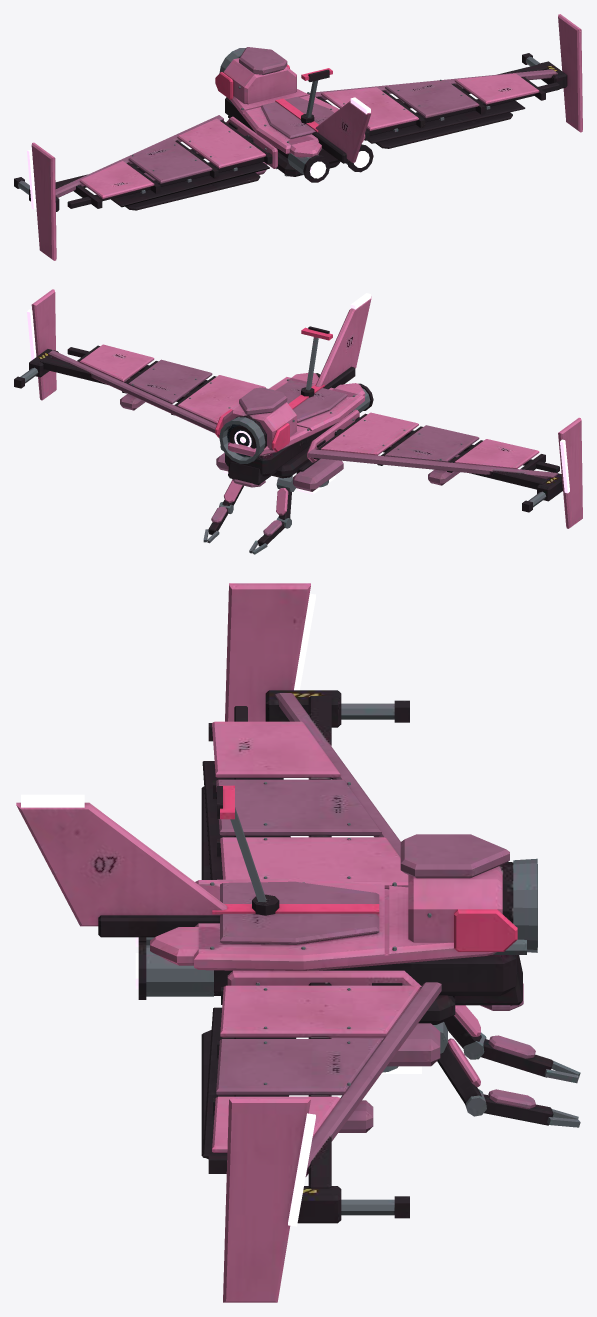
File: vane.glb
The picture shows the model from 3 angles, top to bottom: view 1: azimuth 30°, elevation 25°; view 2: azimuth 150°, elevation 25°; view 3: azimuth 270°, elevation 25°; orthographic projection. The views are drawn at different scales.
Parts seen in each view (by area): view 1: wingL|base|, wingR|base|, body|base|, head|base|, wingL|chip:21|, tail|base|, wingR|chip:22|, head|chip:16|, mast|base|, body|base|thrust, wingL|base|tip; view 2: wingL|base|, wingR|base|, body|base|, head|base|, tail|base|, wingL|chip:21|, wingR|chip:22|, clawL|base|, body|chip:5|, head|chip:16|, clawR|base|, mast|base|; view 3: body|base|, wingR|base|, wingL|base|, tail|base|, wingR|chip:22|, head|base|, wingL|chip:21|, head|chip:16|, clawR|base|, clawL|base|, mast|base|, body|chip:9| (+2 smaller).
Part boxes in pixels (left/top/right/bottom): wingL|base|: left=14, top=115, right=272, bottom=211; wingR|base|: left=308, top=53, right=567, bottom=148; body|base|: left=225, top=89, right=373, bottom=182; head|base|: left=215, top=48, right=296, bottom=104; wingL|chip:21|: left=31, top=142, right=56, bottom=260; tail|base|: left=312, top=101, right=371, bottom=163; wingR|chip:22|: left=558, top=14, right=582, bottom=132; head|chip:16|: left=239, top=47, right=287, bottom=74; mast|base|: left=301, top=68, right=332, bottom=123; body|base|thrust: left=309, top=151, right=369, bottom=178; wingL|base|tip: left=27, top=150, right=36, bottom=209; wingL|base|: left=307, top=412, right=562, bottom=512; wingR|base|: left=14, top=344, right=265, bottom=433; body|base|: left=225, top=373, right=373, bottom=487; head|base|: left=215, top=402, right=296, bottom=463; tail|base|: left=315, top=296, right=371, bottom=389; wingL|chip:21|: left=558, top=417, right=582, bottom=528; wingR|chip:22|: left=31, top=289, right=56, bottom=400; clawL|base|: left=249, top=477, right=295, bottom=554; body|chip:5|: left=292, top=458, right=343, bottom=491; head|chip:16|: left=239, top=387, right=287, bottom=415; clawR|base|: left=203, top=480, right=243, bottom=543; mast|base|: left=301, top=326, right=332, bottom=397; body|base|: left=138, top=878, right=523, bottom=1072; wingR|base|: left=201, top=982, right=441, bottom=1223; wingL|base|: left=201, top=690, right=409, bottom=889; tail|base|: left=16, top=802, right=227, bottom=937; wingR|chip:22|: left=223, top=1097, right=310, bottom=1302; head|base|: left=408, top=858, right=537, bottom=954; wingL|chip:21|: left=225, top=583, right=310, bottom=721; head|chip:16|: left=400, top=834, right=509, bottom=878; clawR|base|: left=433, top=1022, right=580, bottom=1127; clawL|base|: left=444, top=1005, right=580, bottom=1083; mast|base|: left=217, top=785, right=279, bottom=915; body|chip:9|: left=331, top=1023, right=440, bottom=1066.
Size of the model in its own units: 8.15 by 2.23 by 3.71.
5 materials, 1 textured.
